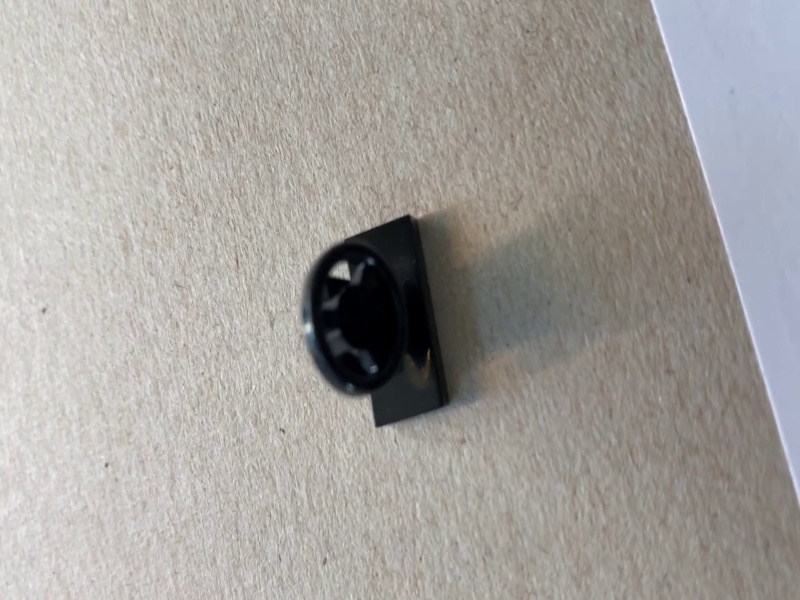steering wheel: (301, 213, 452, 430)
